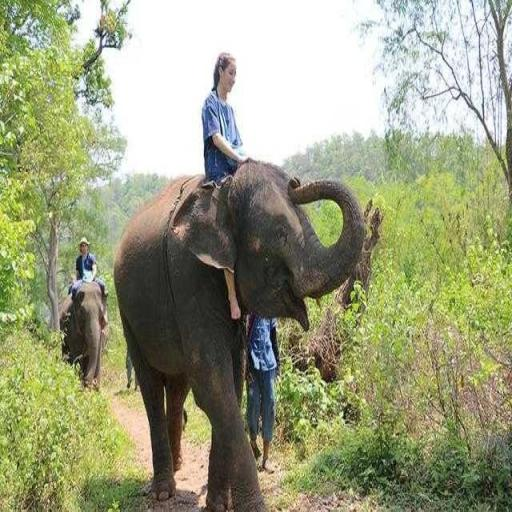Elephant: (112, 157, 365, 511), (58, 278, 108, 390)
